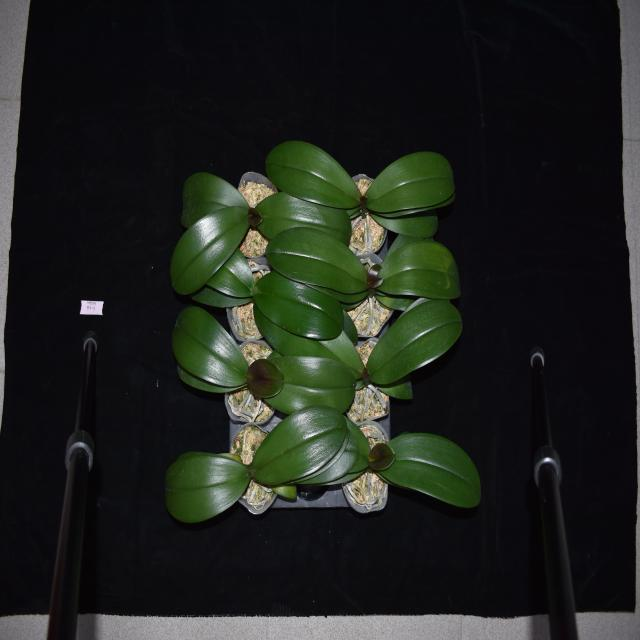leaf: (253, 298, 367, 383), (365, 298, 465, 391), (249, 403, 347, 490), (378, 431, 483, 509), (170, 200, 254, 296), (260, 224, 366, 300), (254, 351, 360, 422), (263, 141, 364, 211), (168, 305, 247, 391), (254, 272, 352, 340), (163, 449, 250, 524), (367, 154, 457, 218), (381, 238, 466, 302), (256, 195, 353, 244), (179, 170, 246, 226), (368, 207, 444, 240), (216, 247, 258, 302), (341, 420, 372, 478), (247, 356, 283, 402), (376, 369, 412, 402), (272, 478, 305, 508), (370, 440, 396, 475), (363, 254, 383, 293), (246, 208, 263, 232), (459, 548, 461, 552)
